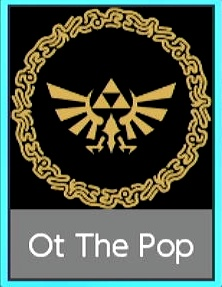user_box: (1, 1, 222, 286)
